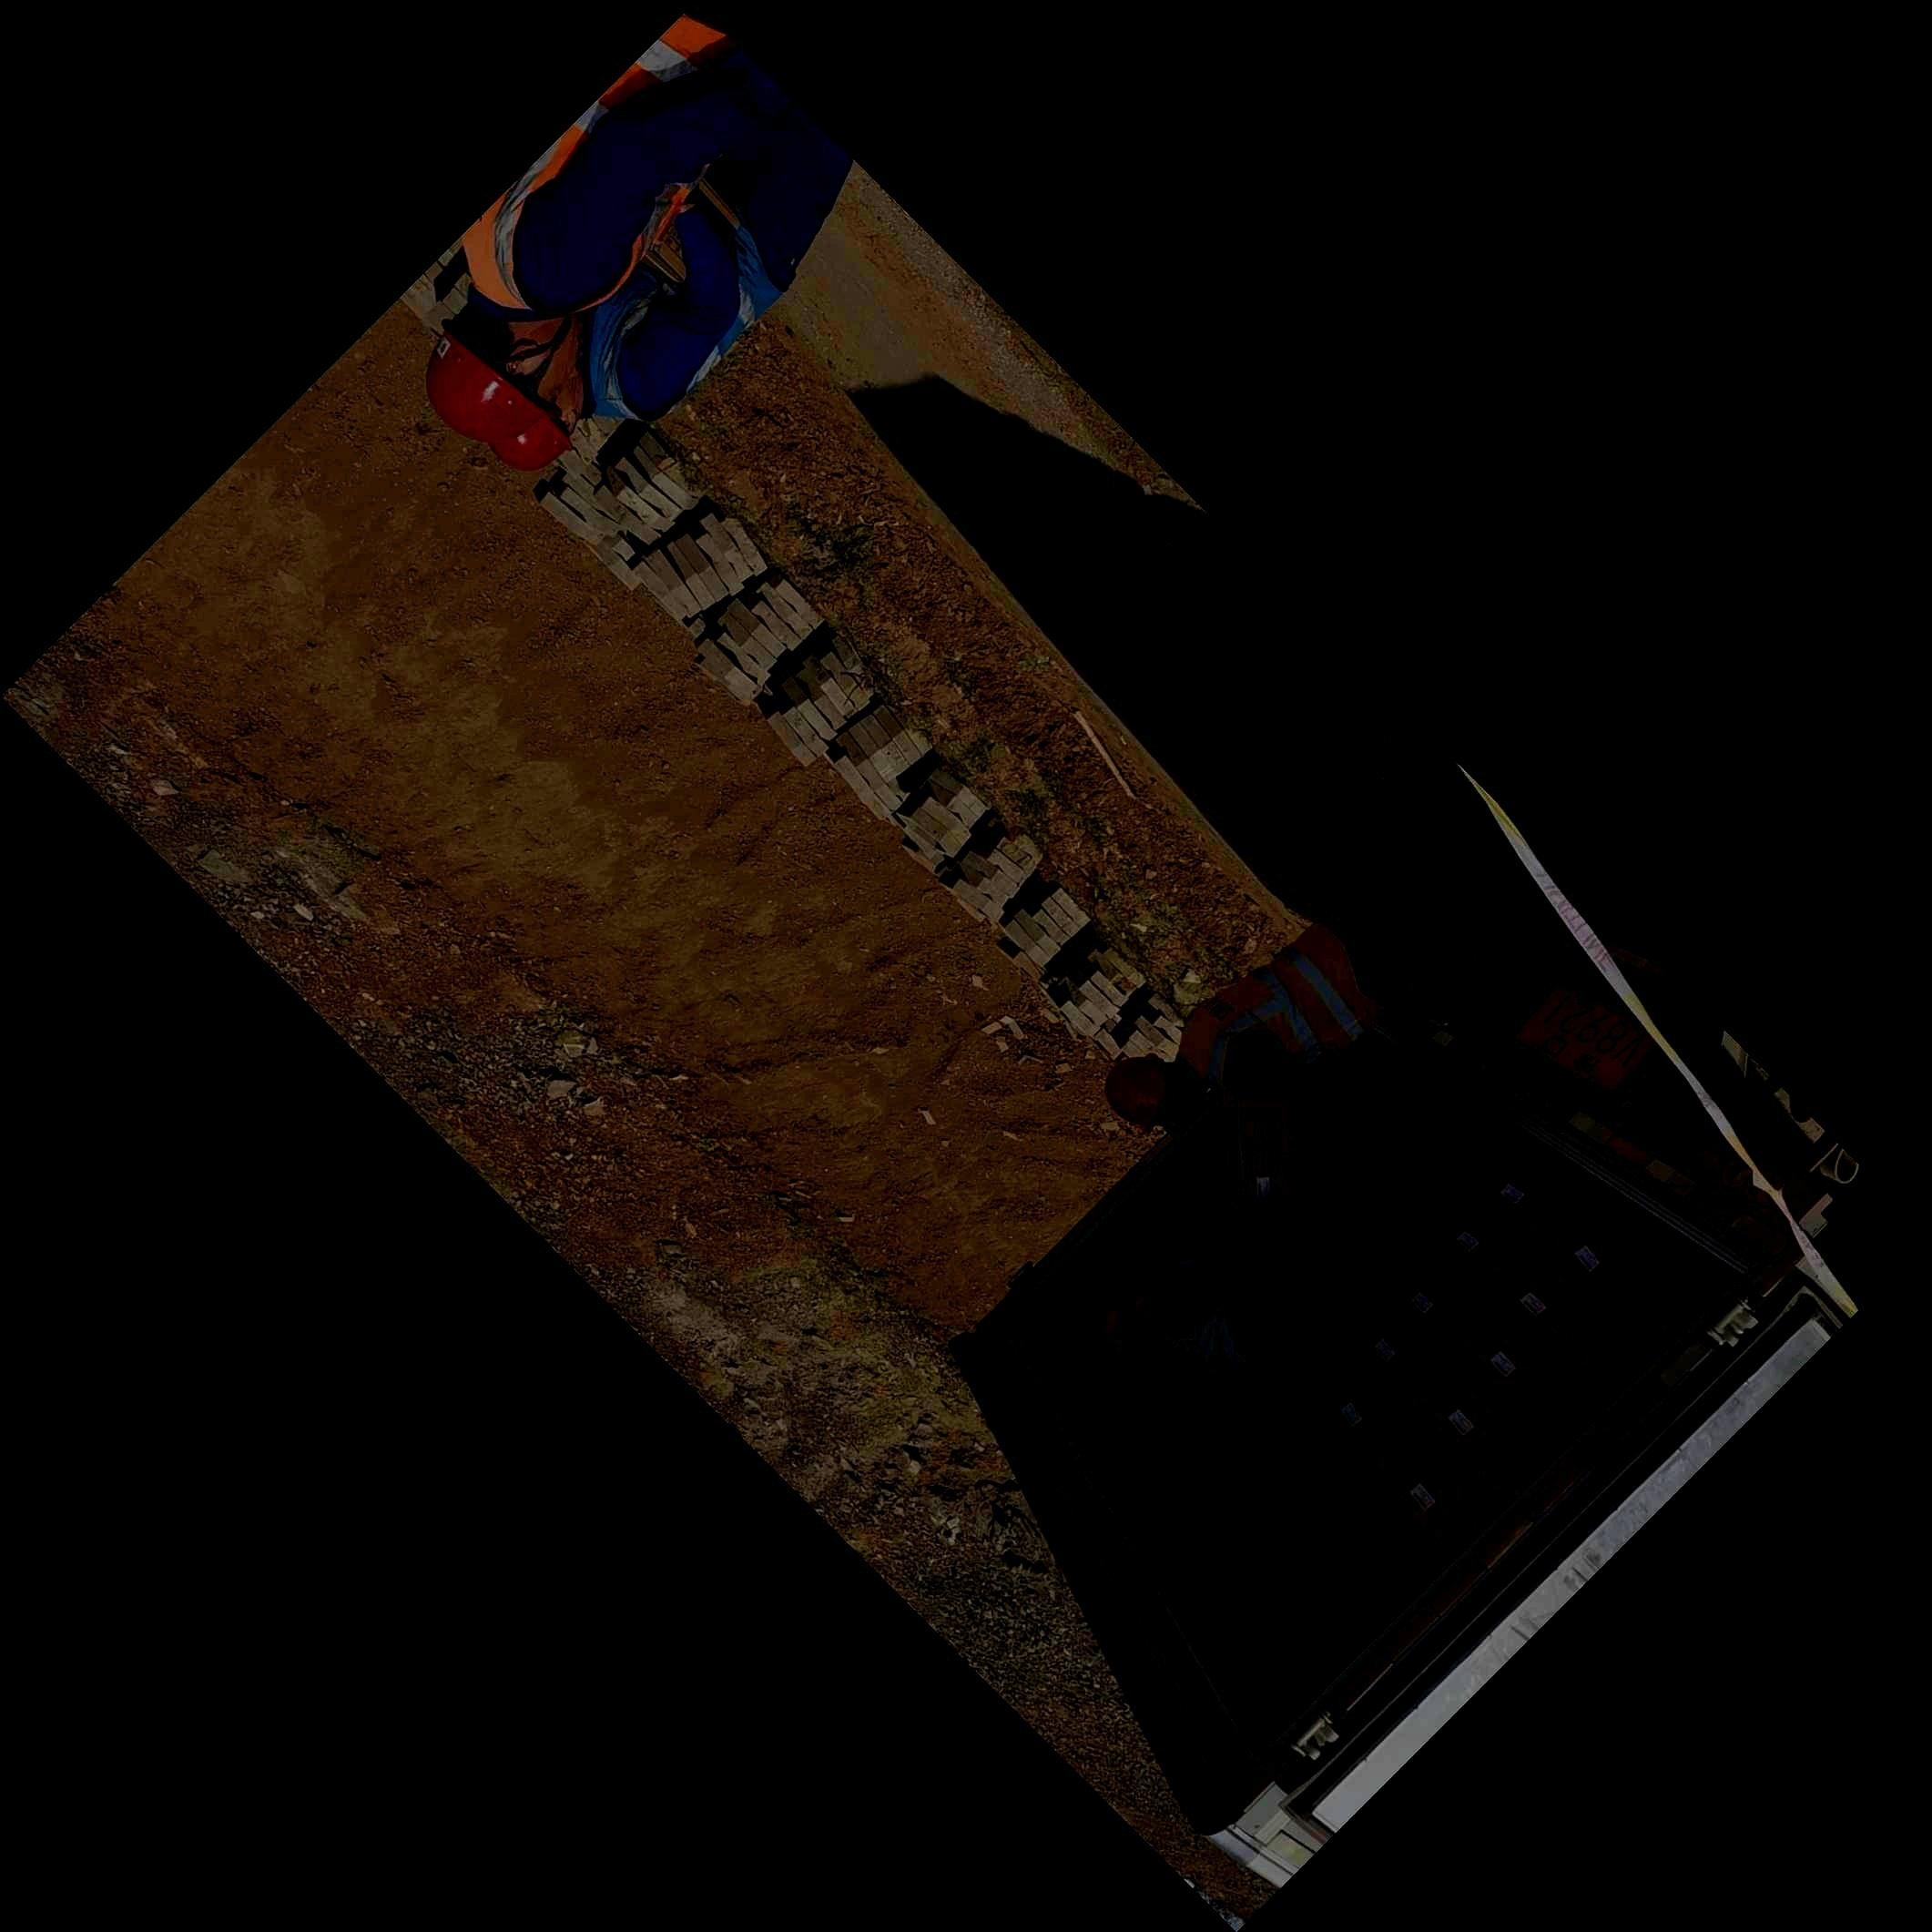helmet: (425, 301, 571, 444), (488, 363, 586, 471), (1104, 1053, 1185, 1134)
